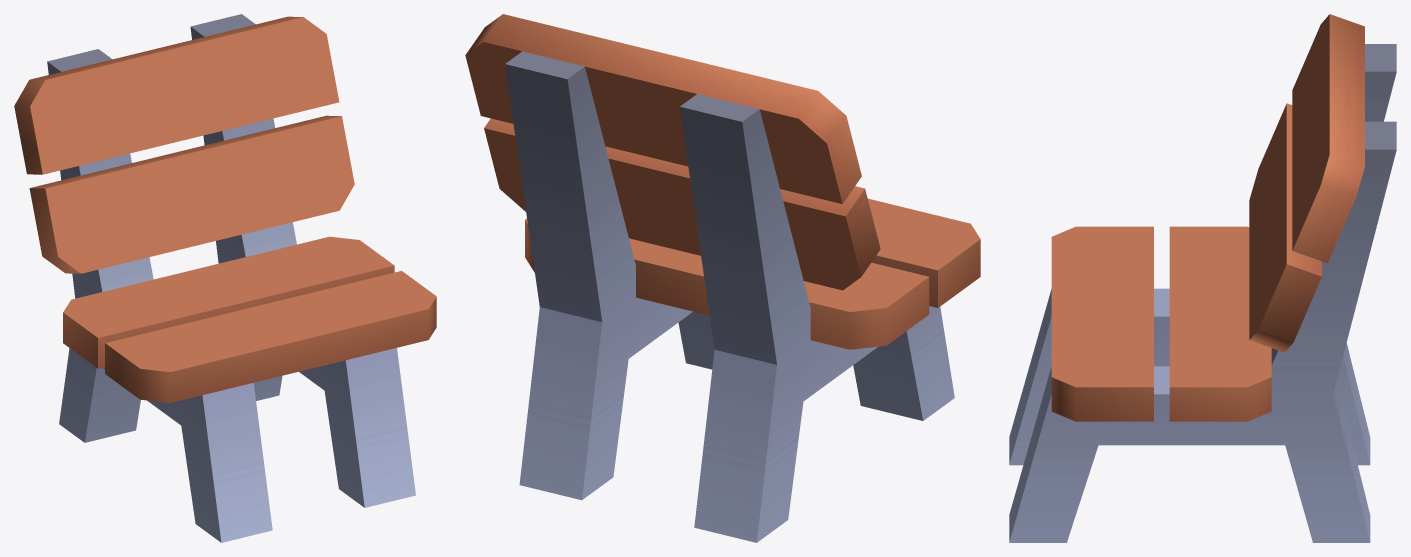
File: bench-short.glb
3 views of the same model, side by side, from view 1: azimuth 30°, elevation 25°; view 2: azimuth 150°, elevation 25°; view 3: azimuth 270°, elevation 25° (orthographic). The views are drawn at different scales.
Parts seen in each view (by area): view 1: bench-short; view 2: bench-short; view 3: bench-short.
Part boxes in pixels (x1,y1,x2,y2): bench-short: [14, 14, 436, 542]; bench-short: [465, 14, 980, 542]; bench-short: [1009, 14, 1396, 542].
Size of the model in its own units: 0.621 by 0.7305 by 0.6321.
1 material, 1 textured.
